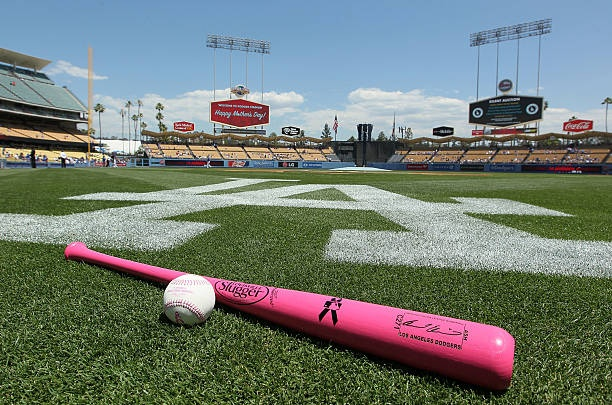bita: (65, 244, 512, 390)
